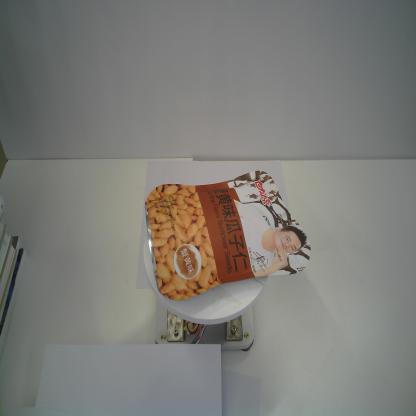Dried Fruit: (143, 168, 312, 303)
